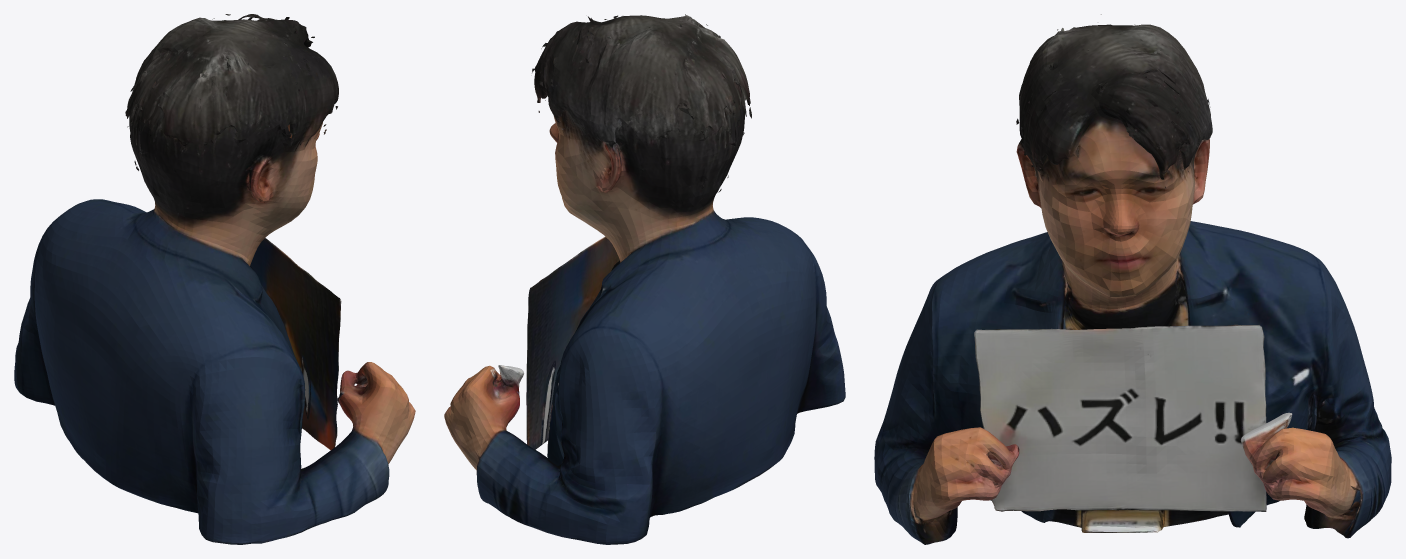
Rendered from hosaka2.glb.
3 renders of one model, left to right at view 1: azimuth 30°, elevation 25°; view 2: azimuth 150°, elevation 25°; view 3: azimuth 270°, elevation 25°, orthographic. The views are drawn at different scales.
Visible parts, largest first — view 1: tripo_node_25ea01e1-b774-4a7b-a745-836a23921bd4; view 2: tripo_node_25ea01e1-b774-4a7b-a745-836a23921bd4; view 3: tripo_node_25ea01e1-b774-4a7b-a745-836a23921bd4.
Boxes of the visible parts, x1,y1,x2,y2 form: tripo_node_25ea01e1-b774-4a7b-a745-836a23921bd4: (14, 14, 415, 544); tripo_node_25ea01e1-b774-4a7b-a745-836a23921bd4: (444, 14, 845, 544); tripo_node_25ea01e1-b774-4a7b-a745-836a23921bd4: (874, 14, 1391, 544).
Size of the model in its own units: 0.591 by 0.9876 by 0.9828.
Materials: 1 (1 with a texture image).
